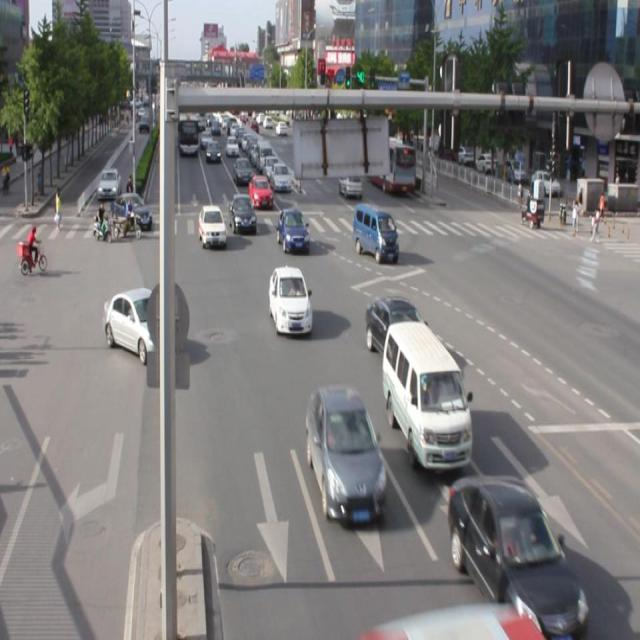car: (448, 474, 587, 640), (307, 386, 385, 521), (104, 286, 179, 363), (366, 295, 428, 369), (268, 265, 312, 334), (276, 207, 310, 252), (198, 204, 227, 248), (229, 193, 257, 234)
truck: (382, 321, 472, 468), (352, 202, 398, 260)
